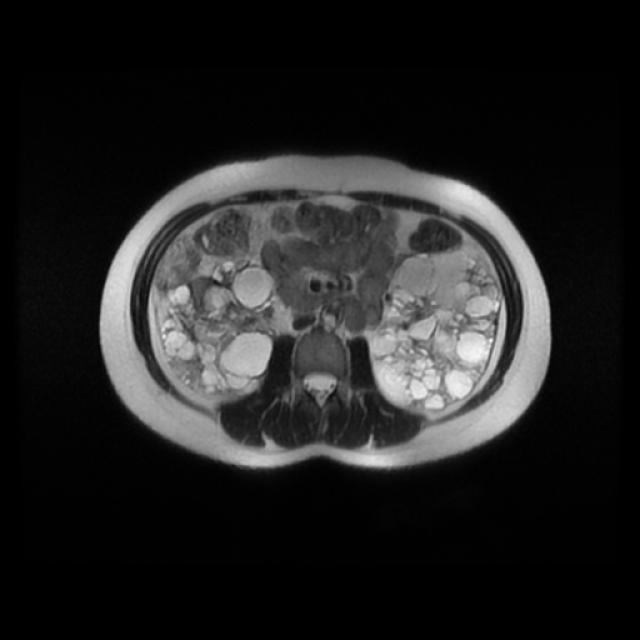sag: (163, 256, 276, 397)
sol: (371, 245, 499, 413)
